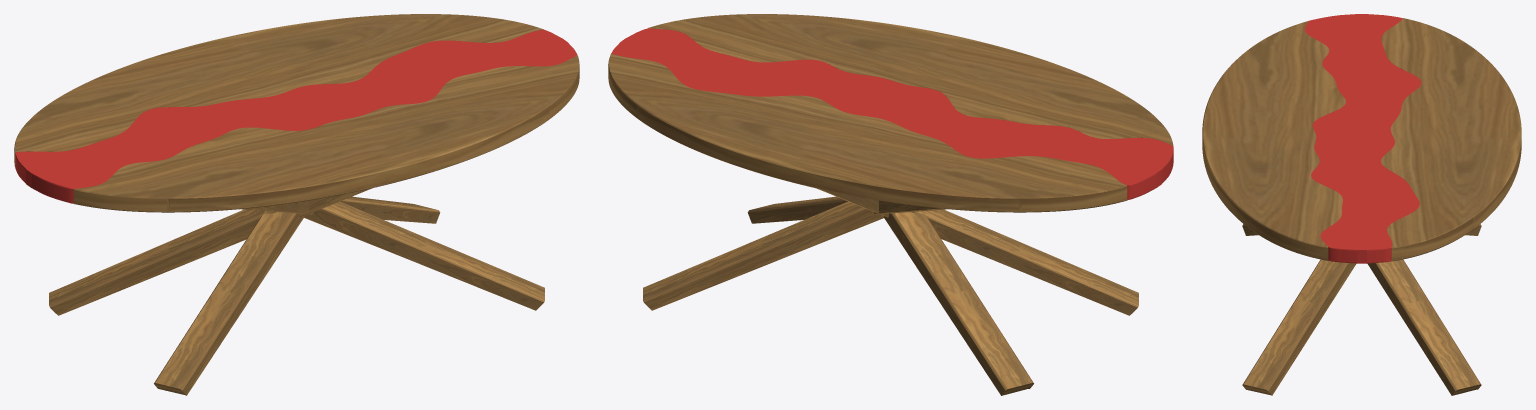
Rendered from ellipse-elm-epoxy-crimson.glb.
The picture shows the model from 3 angles, left to right: view 1: azimuth 30°, elevation 25°; view 2: azimuth 150°, elevation 25°; view 3: azimuth 270°, elevation 25°; orthographic projection. The views are drawn at different scales.
Visible parts, largest first — view 1: Wood_Ellipse_EpoxyFar, Wood_Ellipse_EpoxyNear, Base_Ellipse, Resin_Ellipse; view 2: Wood_Ellipse_EpoxyNear, Wood_Ellipse_EpoxyFar, Base_Ellipse, Resin_Ellipse; view 3: Wood_Ellipse_EpoxyNear, Wood_Ellipse_EpoxyFar, Resin_Ellipse, Base_Ellipse.
Boxes of the visible parts, left/top/right/bottom form: Wood_Ellipse_EpoxyFar: left=73, top=55, right=579, bottom=212; Wood_Ellipse_EpoxyNear: left=14, top=14, right=543, bottom=166; Base_Ellipse: left=49, top=188, right=544, bottom=395; Resin_Ellipse: left=15, top=29, right=577, bottom=203; Wood_Ellipse_EpoxyNear: left=608, top=53, right=1127, bottom=212; Wood_Ellipse_EpoxyFar: left=647, top=14, right=1173, bottom=145; Base_Ellipse: left=643, top=188, right=1138, bottom=395; Resin_Ellipse: left=611, top=28, right=1173, bottom=200; Wood_Ellipse_EpoxyNear: left=1381, top=18, right=1521, bottom=261; Wood_Ellipse_EpoxyFar: left=1202, top=21, right=1345, bottom=260; Resin_Ellipse: left=1305, top=14, right=1421, bottom=263; Base_Ellipse: left=1242, top=224, right=1481, bottom=395.
Bounding box in the file's own units: 2.13 × 0.762 × 1.22.
2 materials, 1 textured.
